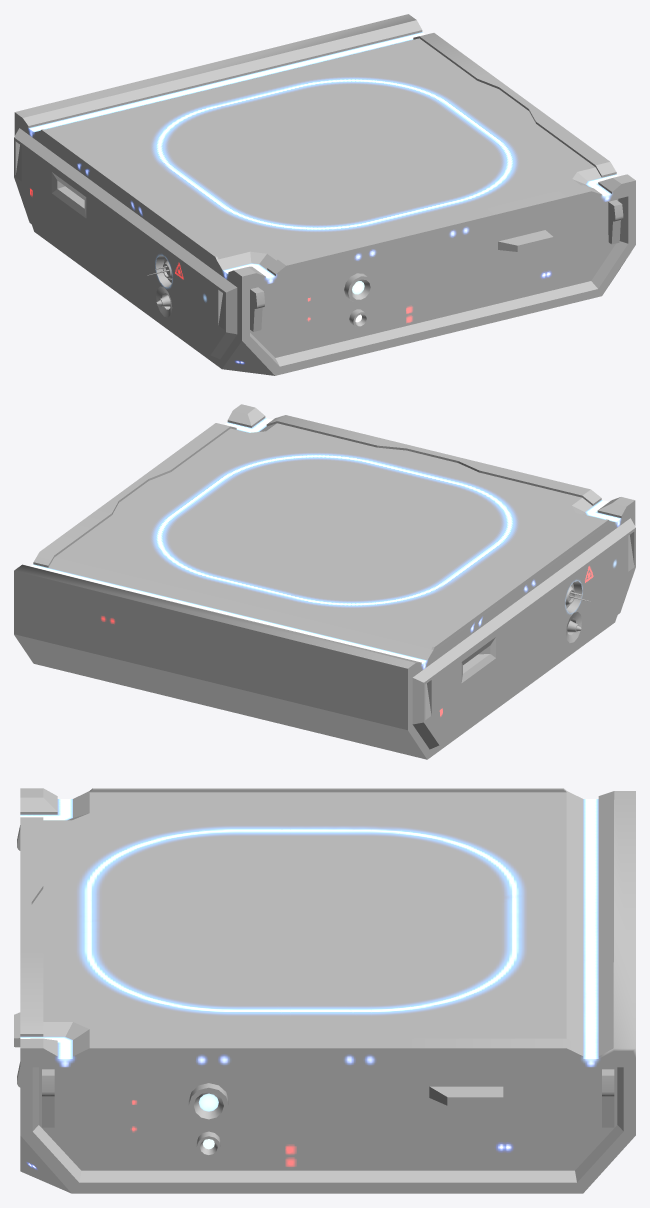
The model's file is 3Way_Caps.fbx.
The picture shows the model from 3 angles, top to bottom: view 1: azimuth 30°, elevation 25°; view 2: azimuth 150°, elevation 25°; view 3: azimuth 270°, elevation 25°; orthographic projection. The views are drawn at different scales.
Parts seen in each view (by area): view 1: 3Way_Caps; view 2: 3Way_Caps; view 3: 3Way_Caps.
Boxes of the visible parts, <box> form: 3Way_Caps: <box>14,14,635,375</box>; 3Way_Caps: <box>14,404,635,759</box>; 3Way_Caps: <box>14,788,635,1193</box>.
Size of the model in its own units: 2.69 by 0.6517 by 2.53.
